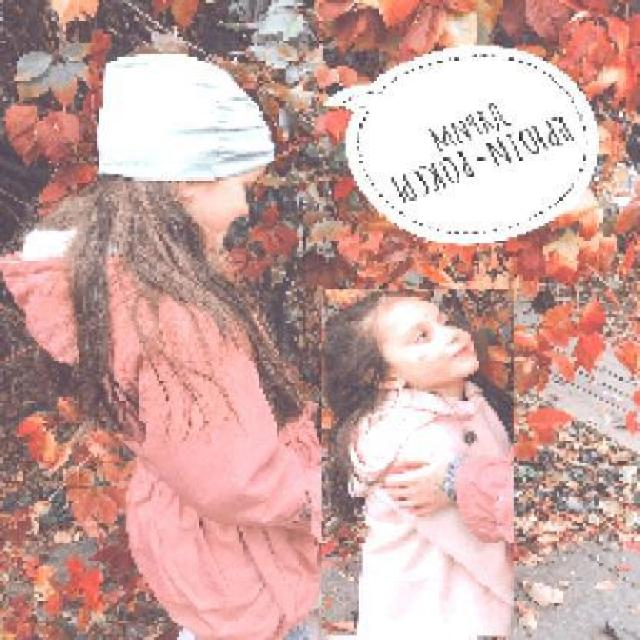child: (320, 289, 514, 637)
